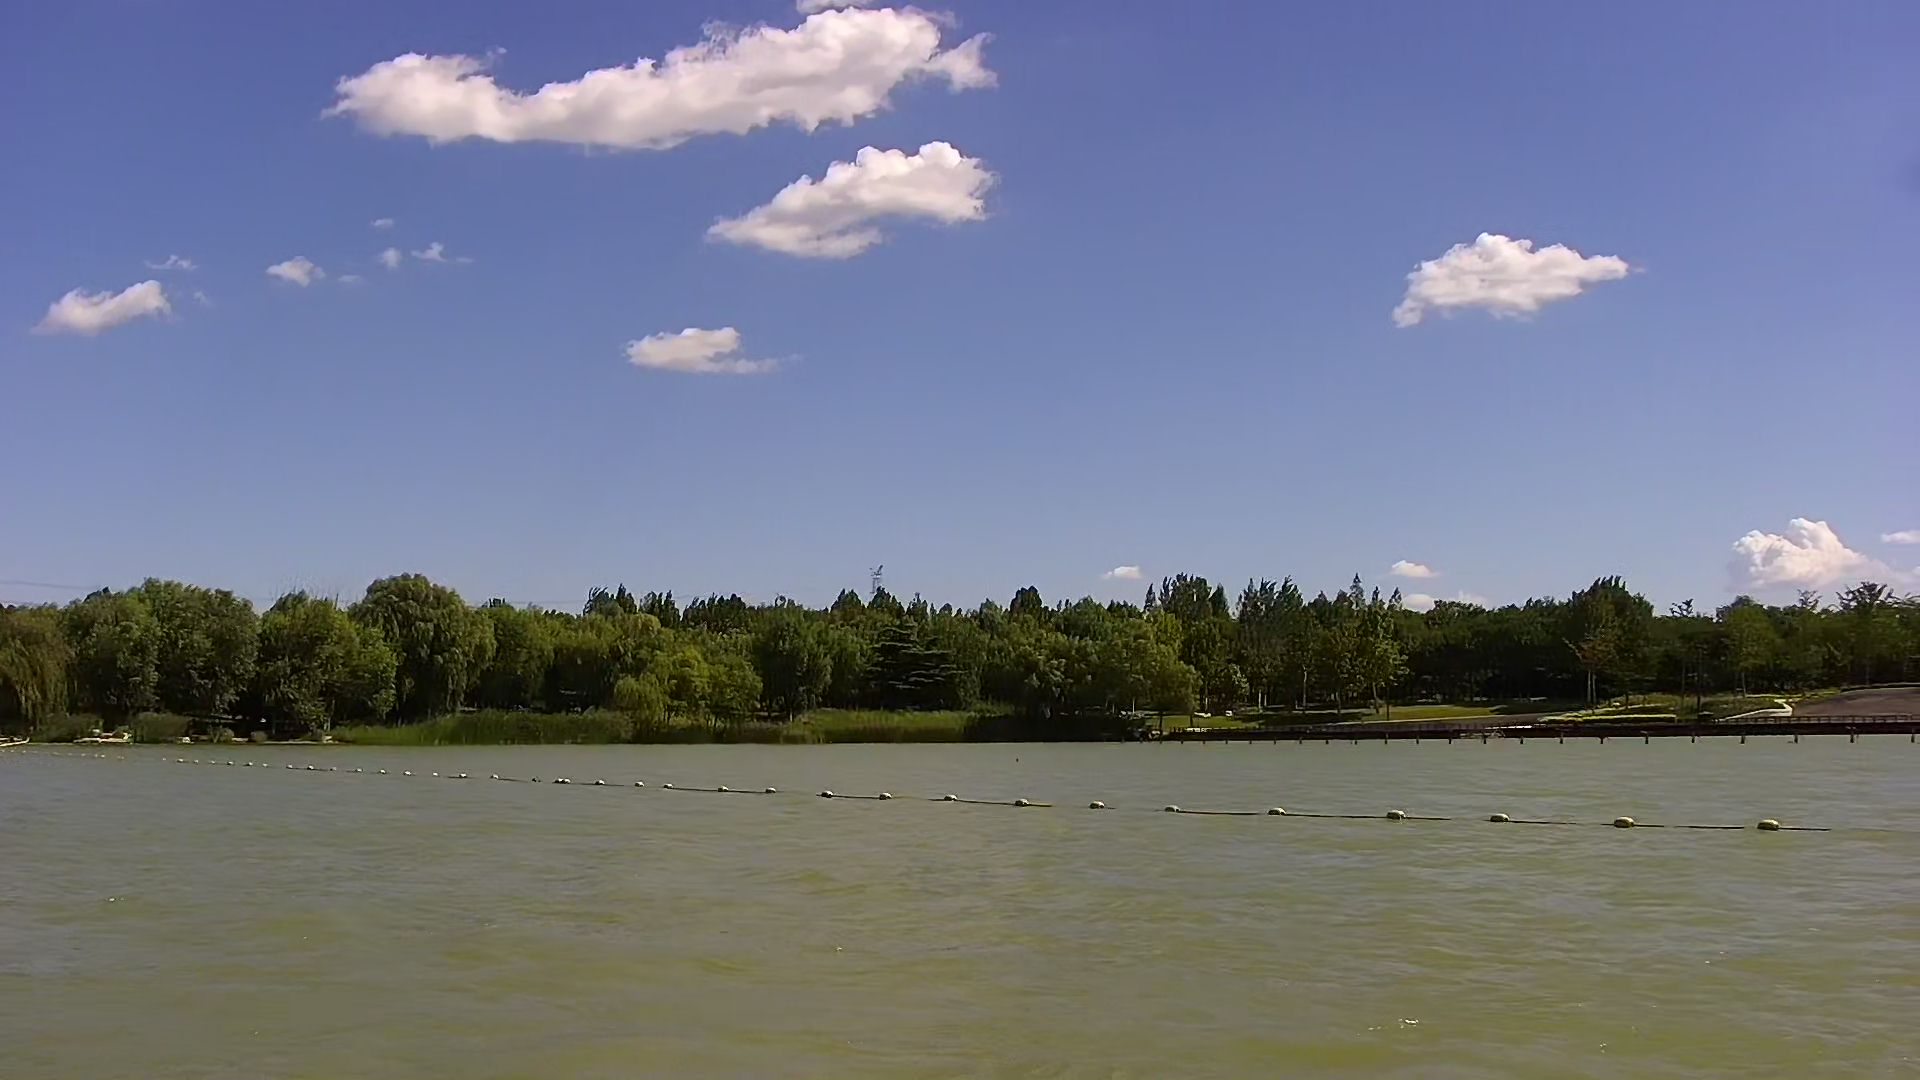ball: (1381, 790, 1431, 844), (1741, 798, 1797, 844), (1155, 778, 1205, 825), (1605, 794, 1655, 837), (1481, 790, 1524, 840), (1265, 786, 1309, 833), (1001, 778, 1047, 822), (1083, 778, 1120, 828), (934, 778, 982, 814), (811, 767, 845, 806), (877, 774, 903, 816)
